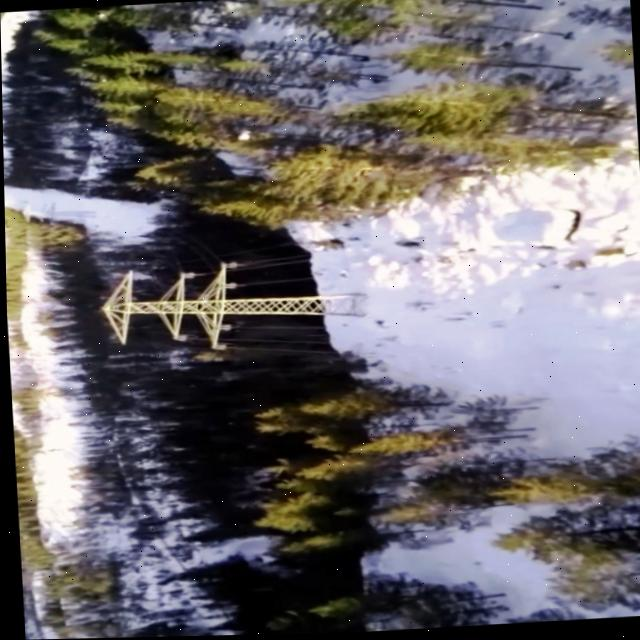poles: (102, 260, 357, 349)
wires: (227, 255, 306, 269), (229, 258, 306, 271), (226, 345, 334, 354), (224, 277, 311, 288), (219, 324, 321, 330), (227, 339, 326, 343), (216, 343, 224, 348), (186, 273, 201, 275)
